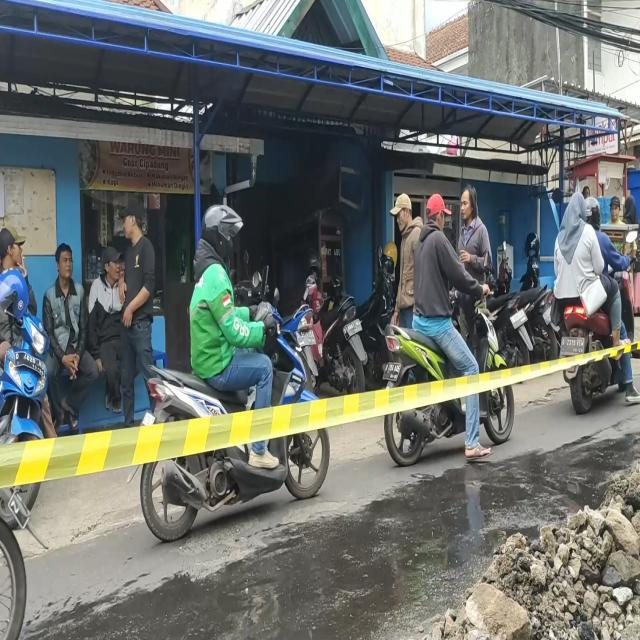helmet: (202, 202, 241, 259)
no-helmet: (426, 192, 446, 228), (568, 194, 586, 224)
